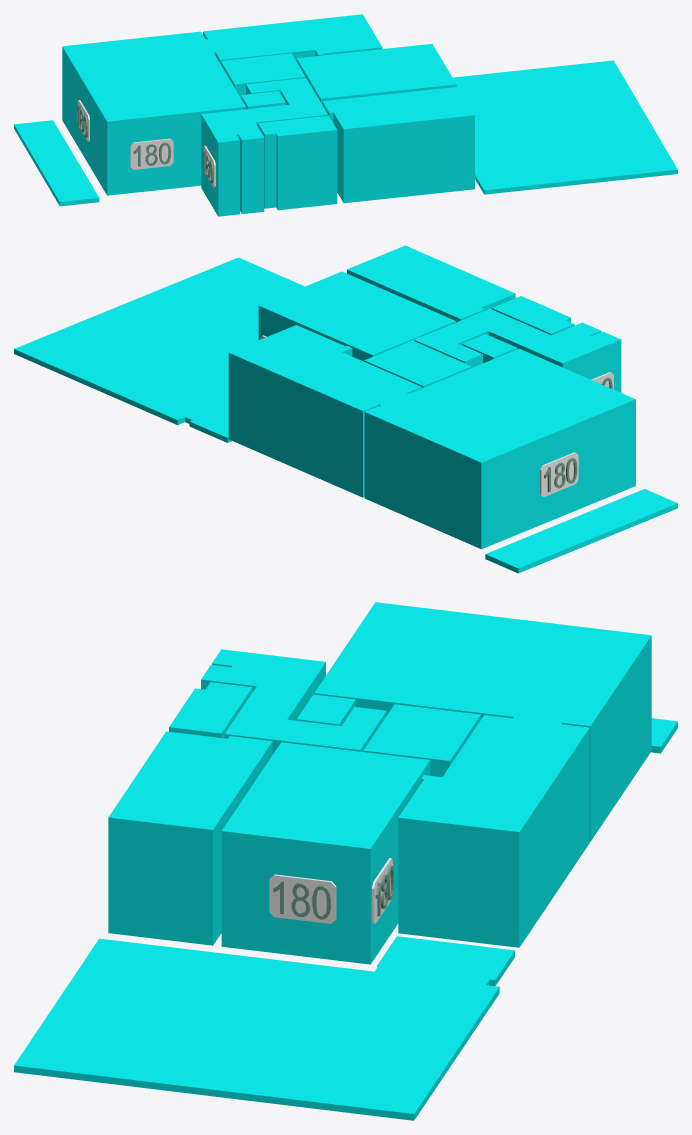
The picture shows the model from 3 angles, top to bottom: view 1: azimuth 30°, elevation 25°; view 2: azimuth 150°, elevation 25°; view 3: azimuth 270°, elevation 25°; orthographic projection. The views are drawn at different scales.
Parts seen in each view (by area): view 1: g_9, g_1, g_7, g_4, g_5, g_6, g_0, g_8, g_2, g_21, g_3; view 2: g_1, g_9, g_0, g_6, g_4, g_7, g_8, g_2, g_5, g_13, g_3; view 3: g_9, g_1, g_0, g_6, g_7, g_4, g_2, g_5, g_17, g_3.
Part boxes in pixels (x1,y1,x2,y2): g_9: (453,60,677,194); g_1: (62,31,245,195); g_7: (322,86,474,203); g_4: (201,78,328,216); g_5: (258,115,337,210); g_6: (296,44,456,104); g_0: (203,14,382,63); g_8: (14,120,99,206); g_2: (220,53,305,98); g_21: (130,138,173,169); g_3: (241,91,285,109); g_1: (364,348,635,549); g_9: (14,257,304,442); g_0: (228,325,421,497); g_6: (258,271,455,361); g_4: (414,309,621,392); g_7: (347,245,515,322); g_8: (485,489,677,573); g_2: (364,340,471,388); g_5: (492,296,574,335); g_13: (540,452,578,496); g_3: (462,334,517,363); g_9: (14,936,514,1120); g_1: (314,602,651,841); g_0: (398,715,589,947); g_6: (221,742,430,964); g_7: (108,731,272,945); g_4: (201,649,386,754); g_2: (363,704,480,777); g_5: (169,682,252,738); g_17: (269,874,336,923); g_3: (296,694,355,725).
Bounding box in the file's own units: 20.4 × 2.74 × 13.4.
